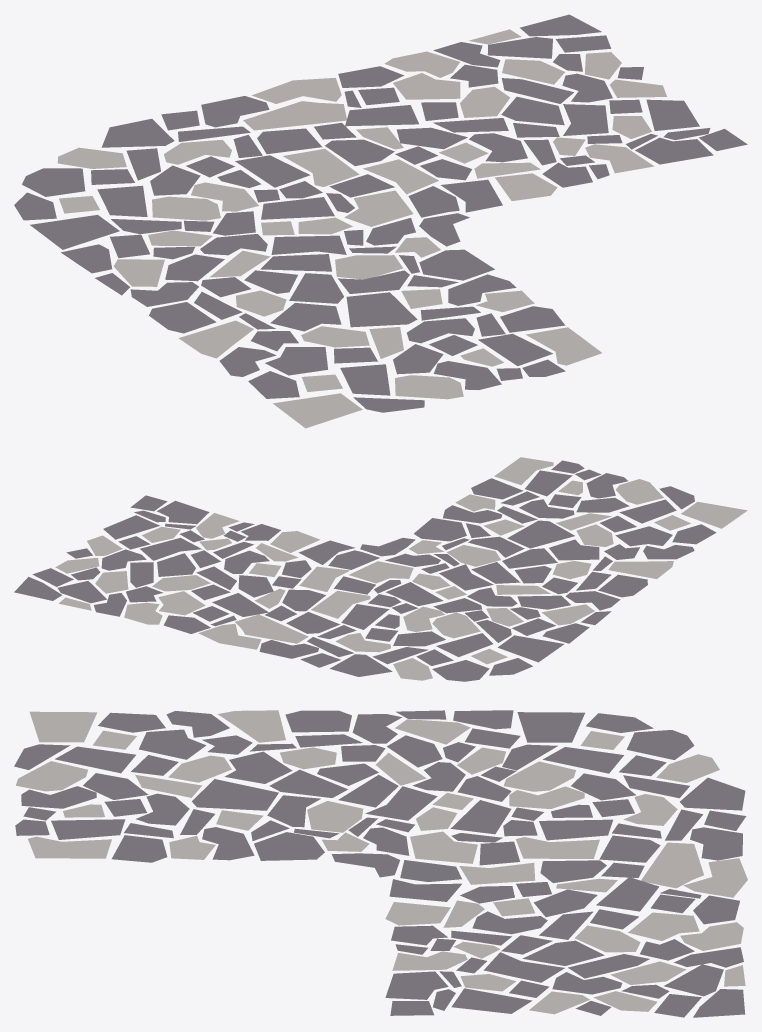
The model's file is road_right.fbx.
3 renders of one model, top to bottom at view 1: azimuth 30°, elevation 25°; view 2: azimuth 150°, elevation 25°; view 3: azimuth 270°, elevation 25°, orthographic. The views are drawn at different scales.
Parts seen in each view (by area): view 1: road_right; view 2: road_right; view 3: road_right.
Boxes of the visible parts, left/top/right/bottom form: road_right: left=14, top=14, right=747, bottom=428; road_right: left=14, top=457, right=747, bottom=681; road_right: left=14, top=710, right=747, bottom=1017.
Size of the model in its own units: 405 by 1.55 by 407.
